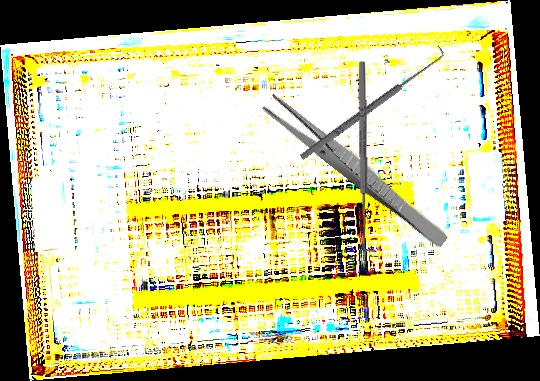Dressing Forceps: (260, 91, 454, 250)
Hook Surgical: (294, 44, 449, 163), (355, 60, 378, 254)
